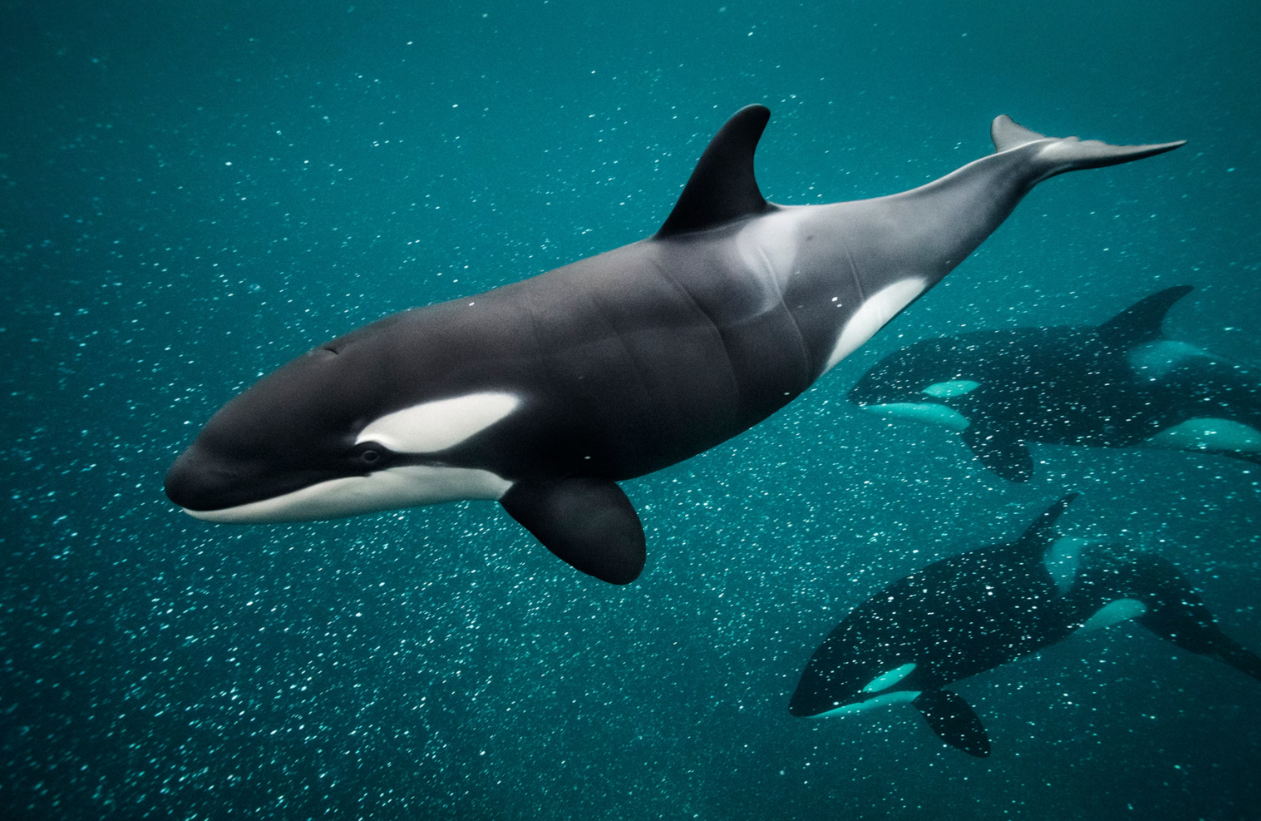Orca whale: (158, 99, 1192, 588), (782, 487, 1256, 749), (843, 282, 1261, 499)
